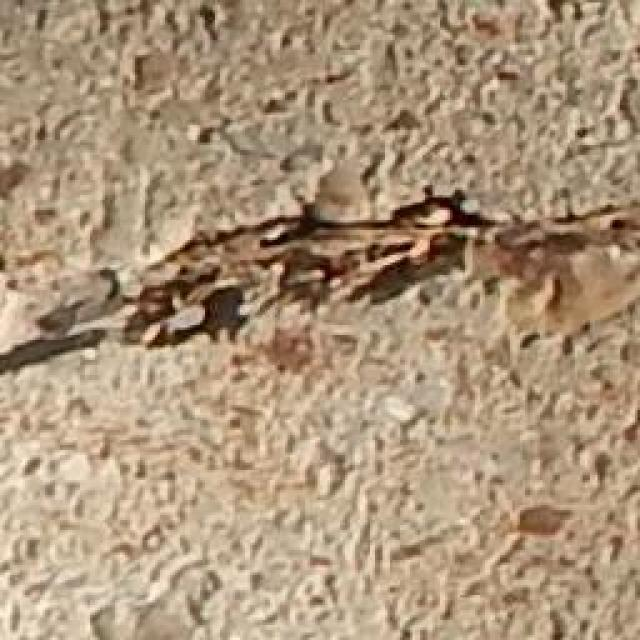concrete-crack: (0, 182, 637, 382)
